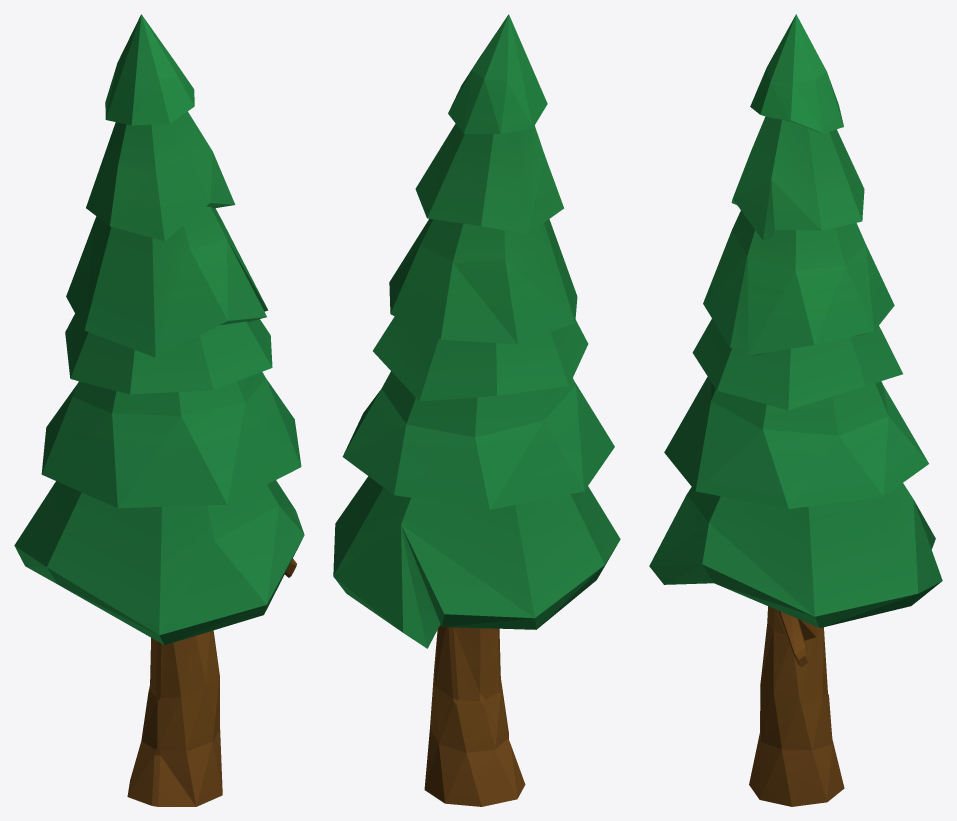
File: tree_fir_slim.glb
The picture shows the model from 3 angles, left to right: view 1: azimuth 30°, elevation 25°; view 2: azimuth 150°, elevation 25°; view 3: azimuth 270°, elevation 25°; orthographic projection. The views are drawn at different scales.
Visible parts, largest first — view 1: tree_fir_slim; view 2: tree_fir_slim; view 3: tree_fir_slim.
Part boxes in pixels (left/top/right/bottom): tree_fir_slim: left=14, top=14, right=304, bottom=806; tree_fir_slim: left=333, top=14, right=620, bottom=806; tree_fir_slim: left=649, top=14, right=942, bottom=806.
Bounding box in the file's own units: 1.32 × 3.8 × 1.34.
1 material, 1 textured.
